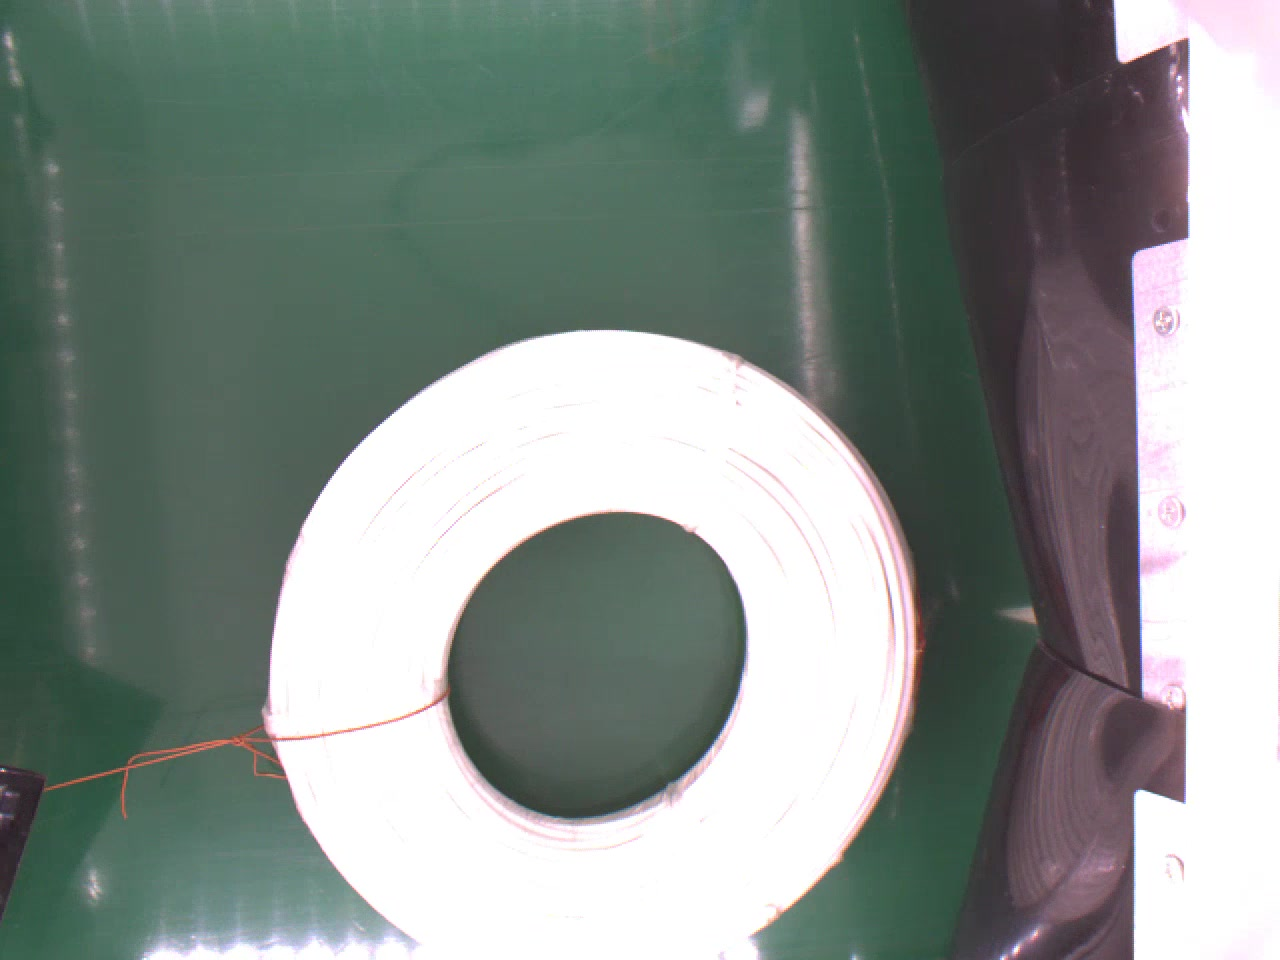white: (257, 324, 932, 960)
